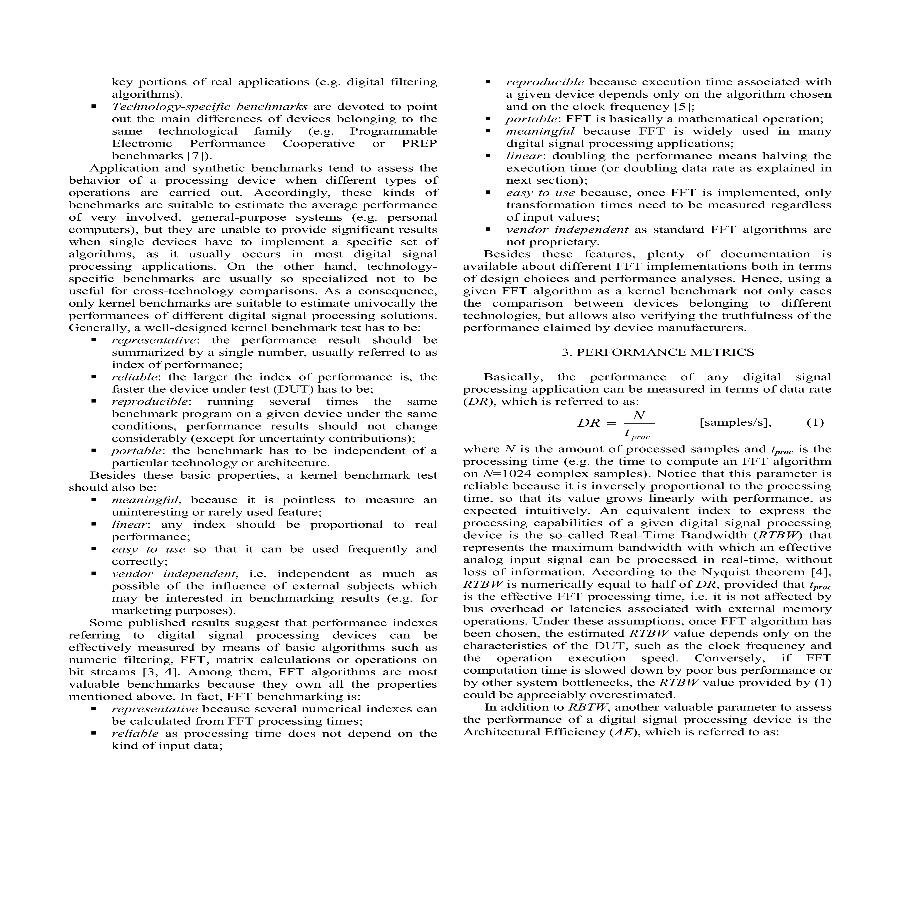eq: (574, 410, 667, 443)
